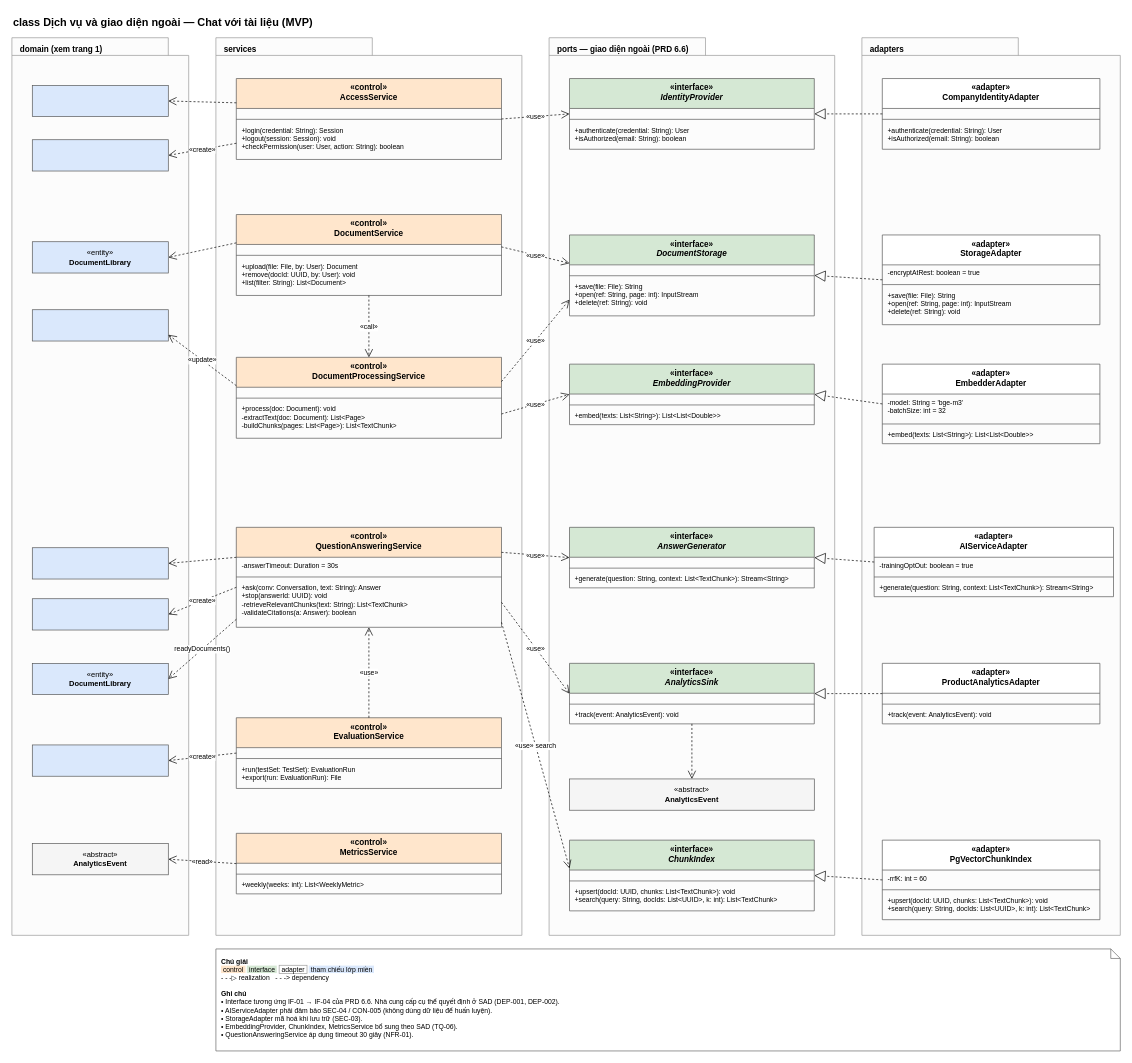
Image size: 1132x1063. Some labels were removed from this diagram. Here are the shapes that lost their labels. From the top down, the centre of each, then its label:
At (x=100, y=101): "«entity» User".
At (x=100, y=155): "«entity» Session".
At (x=100, y=325): "«entity» Document".
At (x=100, y=563): "«entity» Conversation".
At (x=100, y=614): "«entity» Answer".
At (x=100, y=760): "«entity» EvaluationRun".
